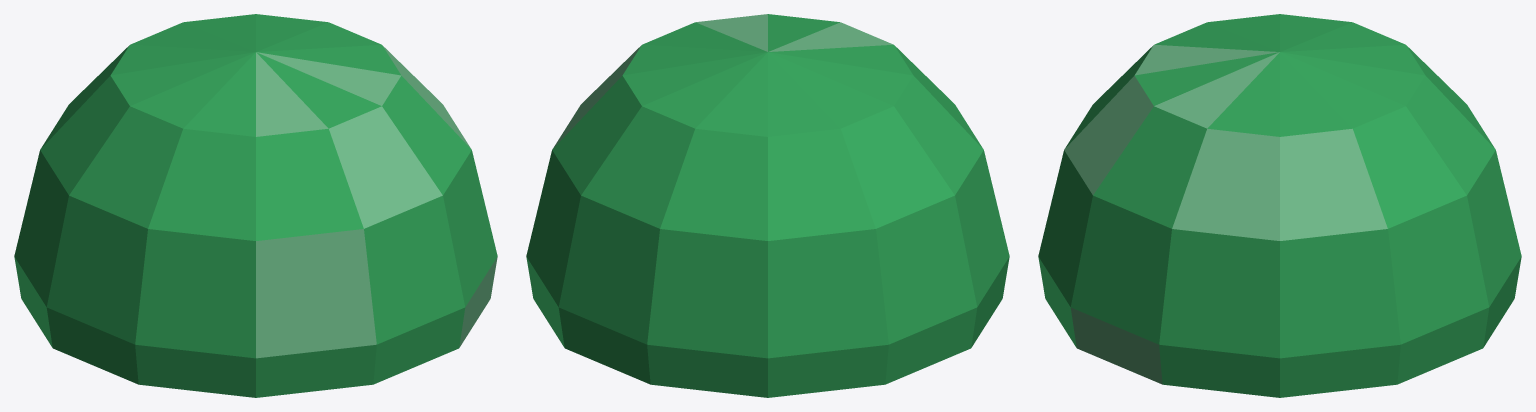
File: Gumdrop_Green.glb
3 views of the same model, side by side, from view 1: azimuth 30°, elevation 25°; view 2: azimuth 150°, elevation 25°; view 3: azimuth 270°, elevation 25° (orthographic).
Visible parts, largest first — view 1: Gumdrop_Green; view 2: Gumdrop_Green; view 3: Gumdrop_Green.
Boxes of the visible parts, bbox=[...] form: Gumdrop_Green: bbox=[14, 14, 497, 397]; Gumdrop_Green: bbox=[526, 14, 1009, 397]; Gumdrop_Green: bbox=[1038, 14, 1521, 397].
Bounding box in the file's own units: 2.47 × 1.39 × 2.47.
